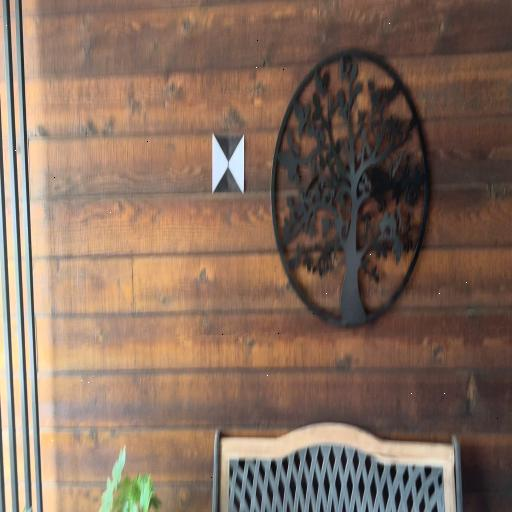target: (213, 133, 243, 192)
